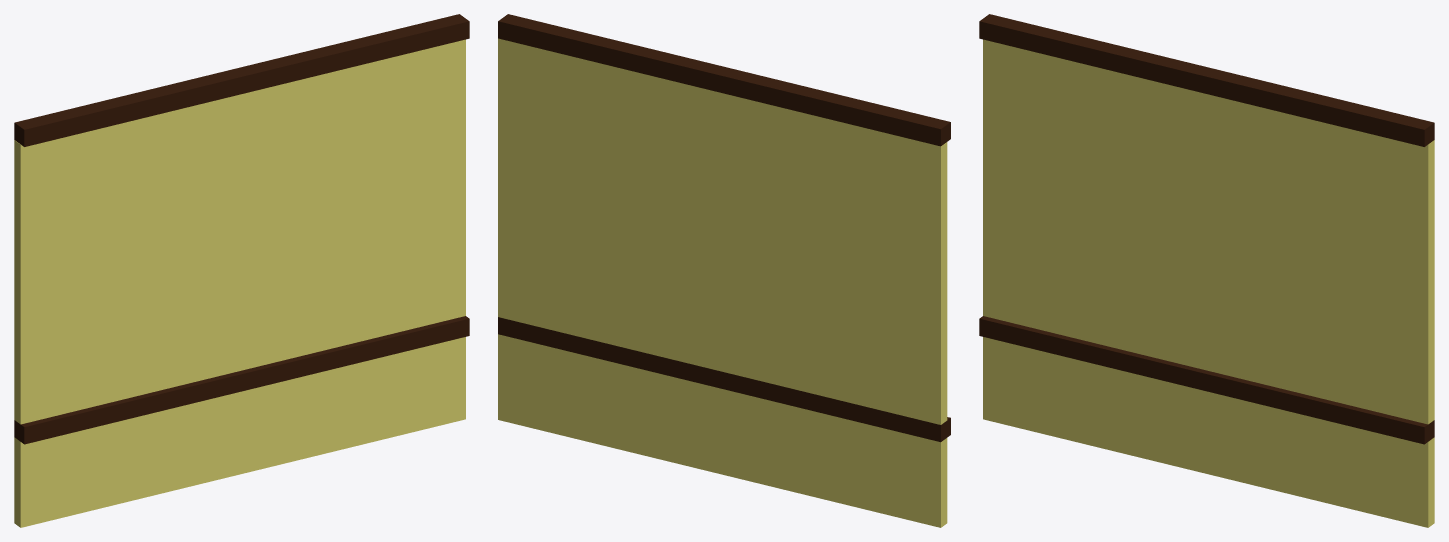
The model's file is pared2.fbx.
3 renders of one model, left to right at view 1: azimuth 30°, elevation 25°; view 2: azimuth 150°, elevation 25°; view 3: azimuth 330°, elevation 25°, orthographic.
Visible parts, largest first — view 1: Pared_2; view 2: Pared_2; view 3: Pared_2.
Boxes of the visible parts, x1,y1,x2,y2 form: Pared_2: [14, 14, 469, 527]; Pared_2: [498, 14, 950, 527]; Pared_2: [979, 14, 1434, 527].
Bounding box in the file's own units: 1970 × 1695 × 76.53.
